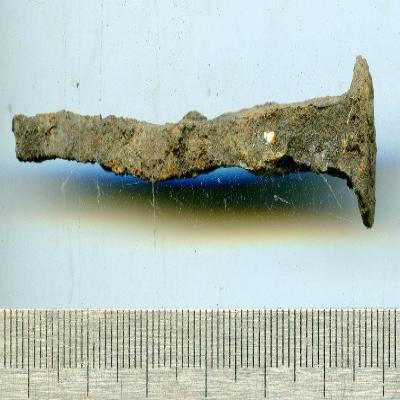archeology: (10, 55, 378, 230)
